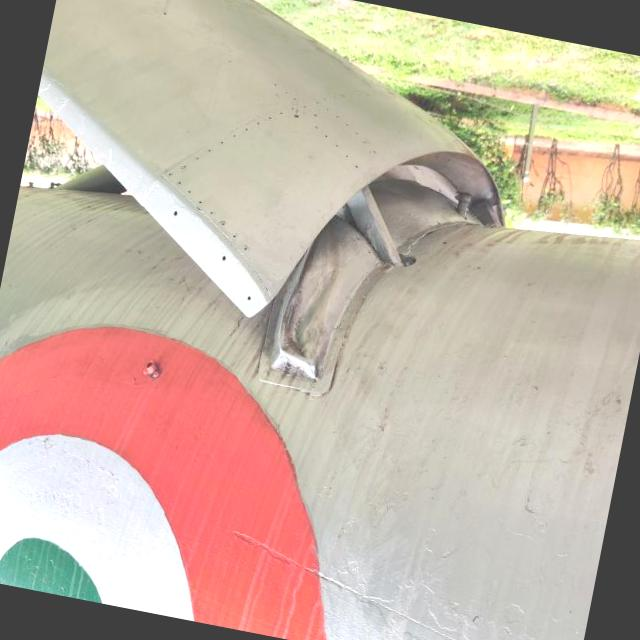dent: (254, 225, 363, 394)
